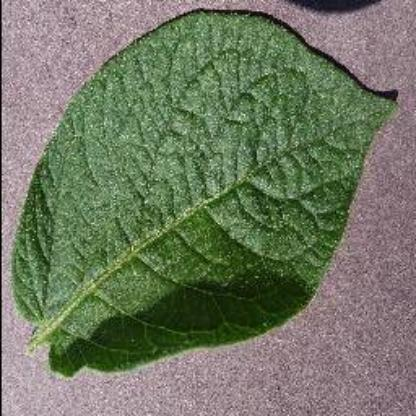Healthy-plant: (13, 8, 398, 382)
